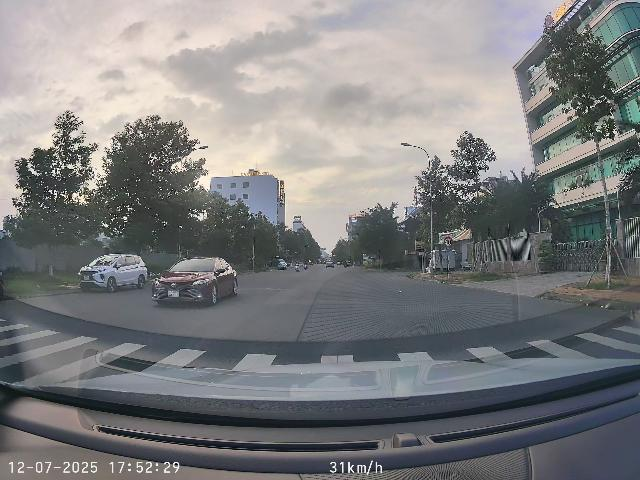127-toc-do-toi-da-40: (443, 237, 453, 247)
